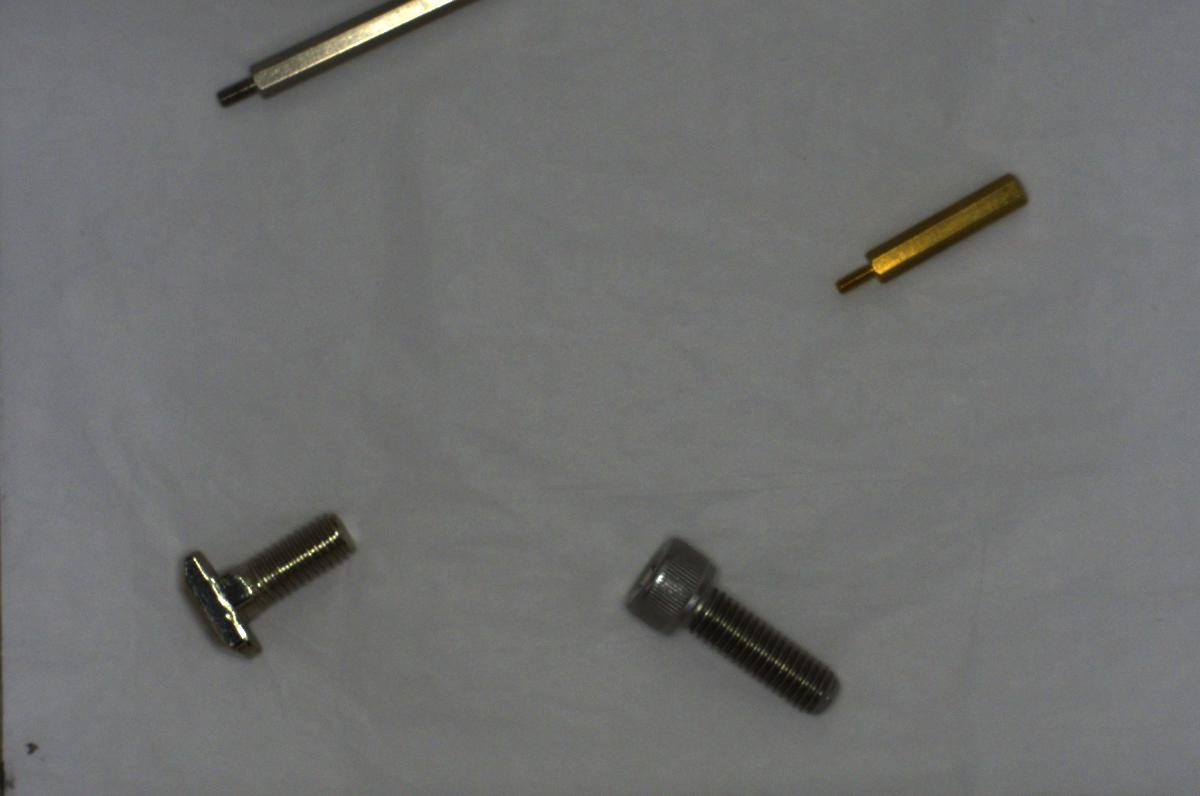Hexagon pillar: (821, 170, 1035, 294)
Hexagon screw: (614, 533, 845, 712)
Hexagonal steel column: (202, 2, 500, 107)
T-shaped screw: (165, 510, 354, 658)
